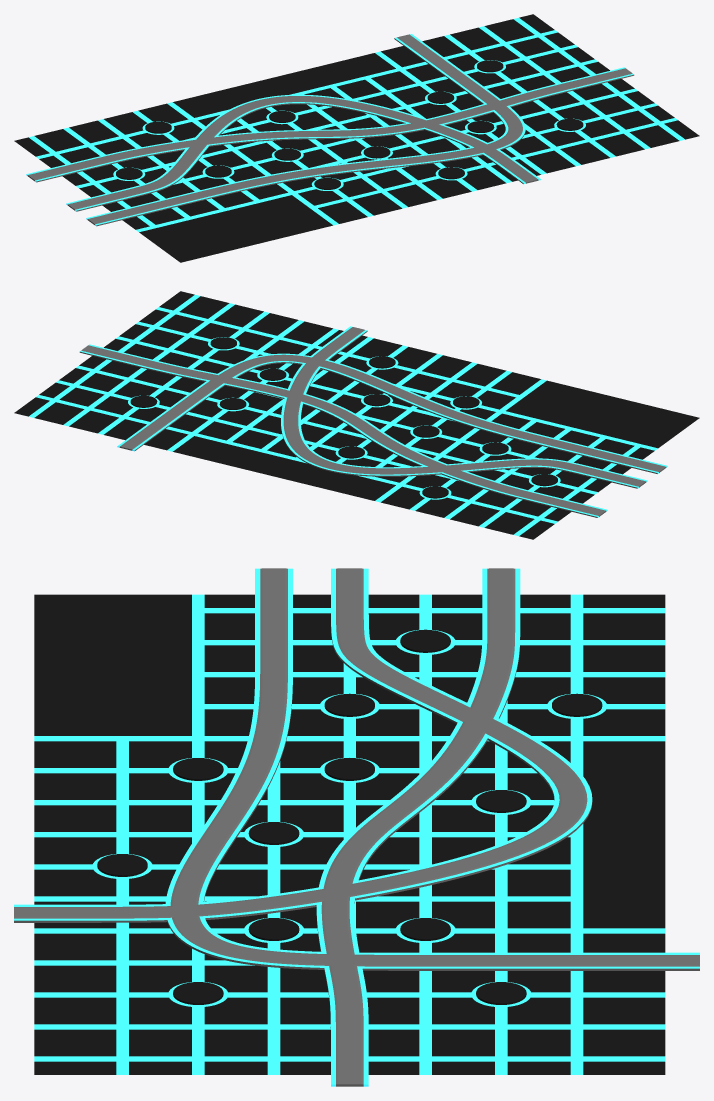
The model's file is levelinf1.fbx.
3 renders of one model, top to bottom at view 1: azimuth 30°, elevation 25°; view 2: azimuth 150°, elevation 25°; view 3: azimuth 270°, elevation 25°, orthographic. The views are drawn at different scales.
Parts seen in each view (by area): view 1: Field, Plane.003, Plane.002, Plane.001; view 2: Field, Plane.003, Plane.001, Plane.002; view 3: Field, Plane.003, Plane.001, Plane.002, Cylinder.010, Cylinder.006, Cylinder, Cylinder.003, Cylinder.008, Cylinder.002, Cylinder.005, Cylinder.011 (+4 smaller).
Part boxes in pixels (x1,y1,x2,y2): Field: [14, 14, 699, 262]; Plane.003: [86, 34, 525, 226]; Plane.002: [26, 67, 634, 182]; Plane.001: [66, 94, 540, 211]; Field: [14, 291, 699, 539]; Plane.003: [117, 353, 667, 473]; Plane.001: [281, 326, 647, 488]; Plane.002: [79, 344, 607, 517]; Field: [34, 594, 665, 1074]; Plane.003: [165, 568, 699, 970]; Plane.001: [14, 568, 592, 922]; Plane.002: [316, 568, 520, 1086]; Cylinder.010: [400, 918, 450, 940]; Cylinder.006: [97, 854, 147, 876]; Cylinder: [476, 982, 526, 1004]; Cylinder.003: [400, 629, 450, 652]; Cylinder.008: [173, 982, 223, 1004]; Cylinder.002: [552, 693, 602, 716]; Cylinder.005: [476, 790, 526, 812]; Cylinder.011: [324, 693, 374, 716].
Bounding box in the file's own units: 4834 × 20 × 2717.
